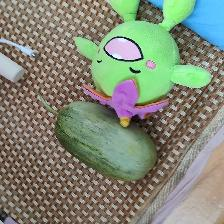gua: (68, 113, 144, 168)
